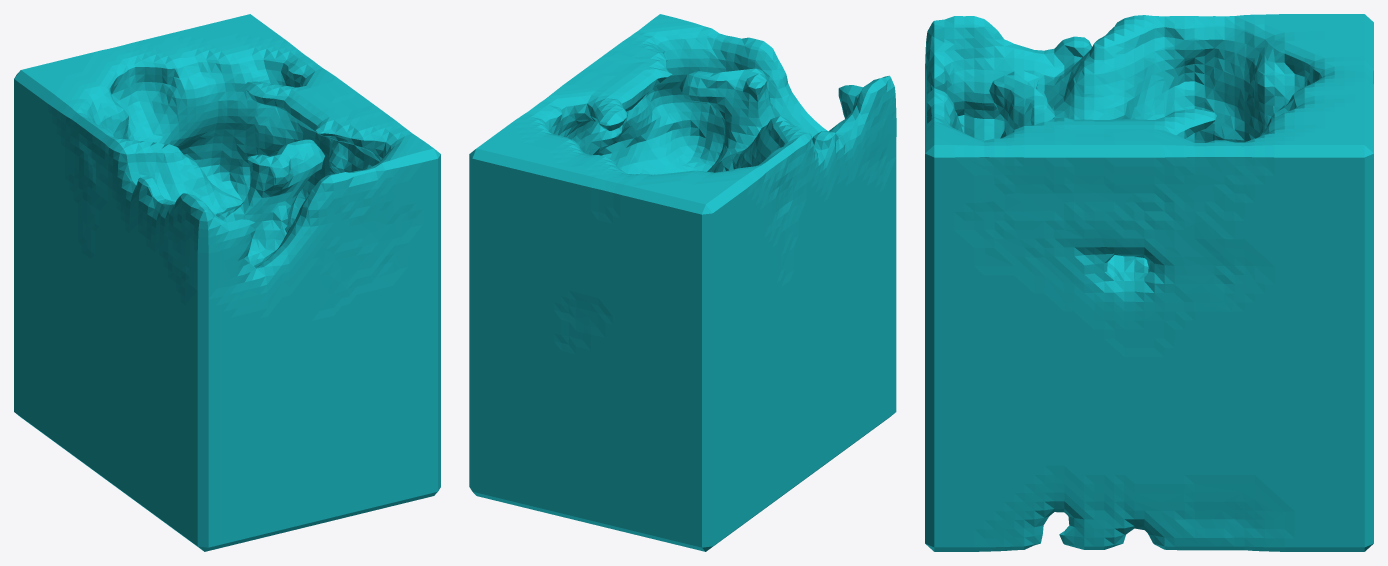
3 views of the same model, side by side, from view 1: azimuth 30°, elevation 25°; view 2: azimuth 150°, elevation 25°; view 3: azimuth 270°, elevation 25° (orthographic). The views are drawn at different scales.
Parts seen in each view (by area): view 1: Liquid_Domain; view 2: Liquid_Domain; view 3: Liquid_Domain.
Boxes of the visible parts, bbox=[...] form: Liquid_Domain: bbox=[14, 14, 440, 551]; Liquid_Domain: bbox=[469, 14, 896, 551]; Liquid_Domain: bbox=[925, 14, 1373, 551].
Size of the model in its own units: 79.09 by 108 by 108.
